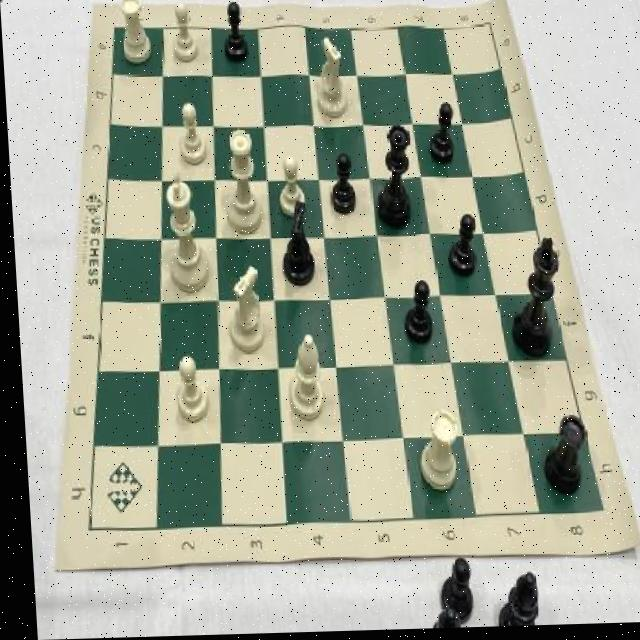black-bishop: (499, 240, 564, 366)
black-king: (268, 202, 315, 291)
black-knight: (395, 277, 432, 352), (441, 214, 477, 283), (424, 100, 457, 169), (218, 0, 250, 71), (325, 153, 355, 224)
black-pawn: (369, 122, 413, 236)
black-queen: (534, 413, 585, 502)
black-rook: (279, 330, 323, 428)
white-bishop: (156, 168, 210, 296)
white-king: (223, 260, 264, 357), (310, 32, 349, 125)
white-knight: (166, 351, 208, 426), (173, 101, 208, 168), (271, 155, 305, 222), (167, 2, 202, 65)
white-pawn: (220, 125, 263, 237)
white-queen: (407, 404, 458, 499), (116, 0, 155, 67)
